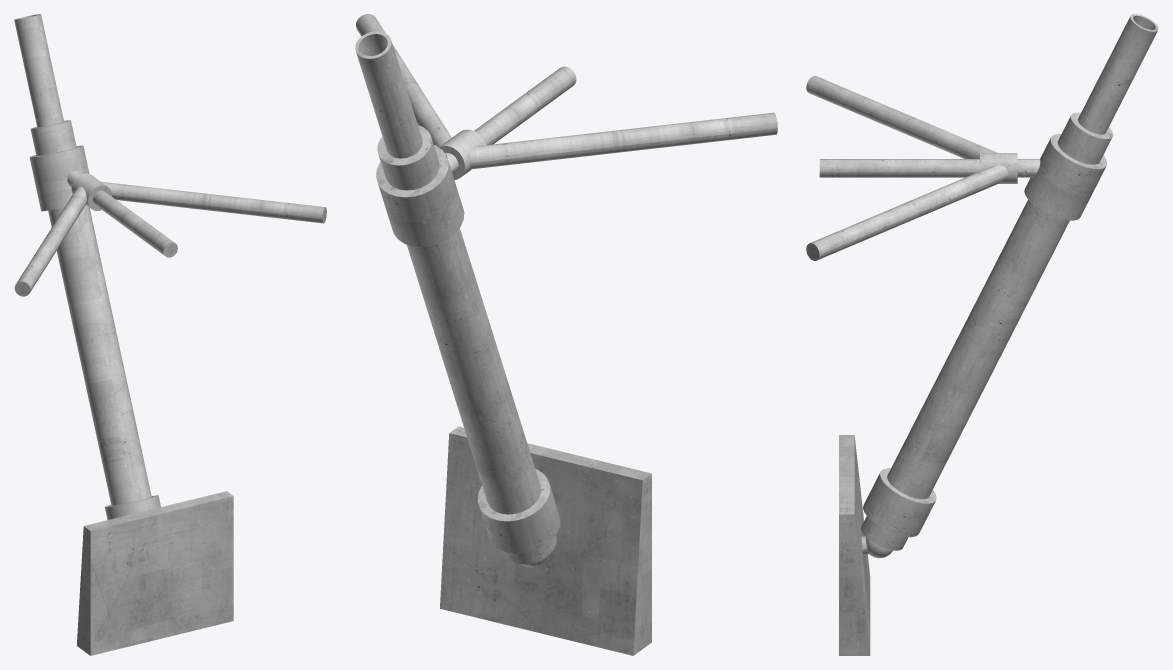
The model's file is MortarOverMin.dae.
3 views of the same model, side by side, from view 1: azimuth 30°, elevation 25°; view 2: azimuth 150°, elevation 25°; view 3: azimuth 270°, elevation 25° (orthographic). The views are drawn at different scales.
Visible parts, largest first — view 1: group_1, group_2 (×2), group_8, group_4, group_7, group_6, group_3, group_9; view 2: group_1, group_2 (×2), group_7, group_4, group_3, group_6, group_8, group_9; view 3: group_2 (×2), group_1, group_8, group_4, group_7, group_6, group_3, group_9.
Part boxes in pixels (left/top/right/bottom): group_1: left=77, top=491, right=233, bottom=655; group_2 (×2): left=14, top=14, right=151, bottom=505; group_8: left=101, top=181, right=326, bottom=223; group_4: left=29, top=145, right=89, bottom=211; group_7: left=14, top=186, right=87, bottom=296; group_6: left=67, top=171, right=177, bottom=257; group_3: left=104, top=495, right=160, bottom=519; group_9: left=71, top=173, right=111, bottom=210; group_1: left=440, top=426, right=651, bottom=655; group_2 (×2): left=355, top=31, right=556, bottom=564; group_7: left=470, top=112, right=777, bottom=169; group_4: left=376, top=145, right=464, bottom=247; group_3: left=477, top=469, right=560, bottom=553; group_6: left=445, top=66, right=576, bottom=173; group_8: left=356, top=14, right=451, bottom=147; group_9: left=439, top=129, right=486, bottom=179; group_2 (×2): left=861, top=14, right=1158, bottom=550; group_1: left=839, top=435, right=870, bottom=655; group_8: left=806, top=165, right=1008, bottom=260; group_4: left=1024, top=134, right=1107, bottom=220; group_7: left=806, top=76, right=997, bottom=158; group_6: left=819, top=159, right=1040, bottom=177; group_3: left=863, top=468, right=936, bottom=537; group_9: left=980, top=153, right=1017, bottom=183.
Size of the model in its own units: 25.75 by 22.18 by 41.62.
Materials: 1 (1 with a texture image).
